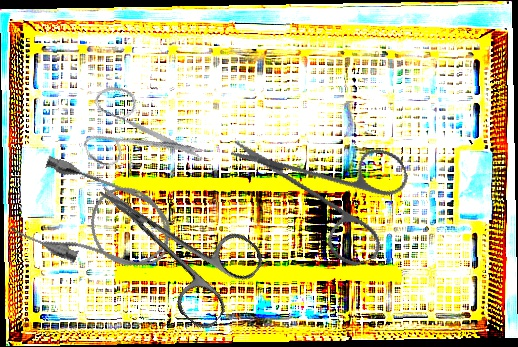Cannula: (6, 151, 185, 291)
Iris Scissors: (227, 89, 432, 293), (72, 148, 270, 334), (67, 63, 210, 198)
